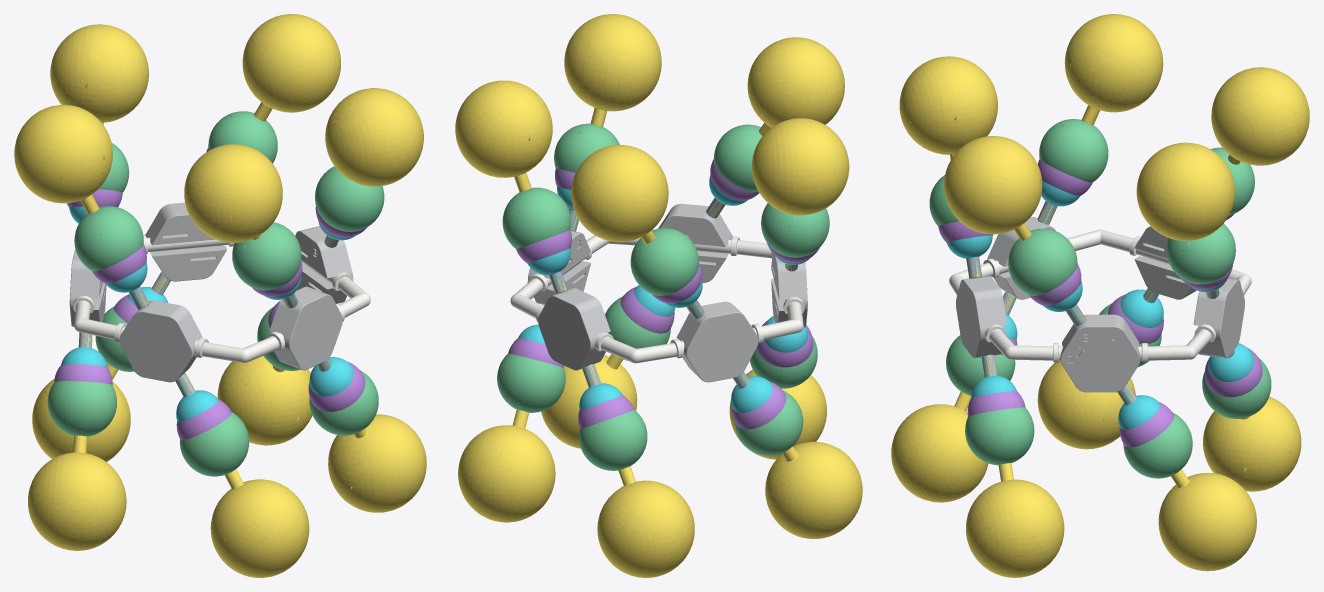
3 views of the same model, side by side, from view 1: azimuth 30°, elevation 25°; view 2: azimuth 150°, elevation 25°; view 3: azimuth 270°, elevation 25° (orthographic).
Visible parts, largest first — view 1: Arm_Bead27_U04, Arm_Bead27_L03, Arm_Bead27_L04, Arm_Bead27_U02, Arm_Bead27_U01, Arm_Bead27_U05, Arm_Bead27_U03, Arm_Bead27_L05, Arm_Bead27_L01, Hexagonal_Body_04, Ring_Frame, Hexagonal_Body_05 (+25 smaller); view 2: Arm_Bead27_L02, Arm_Bead27_U02, Arm_Bead27_U01, Arm_Bead27_L01, Arm_Bead27_U03, Arm_Bead27_L03, Arm_Bead27_U04, Arm_Bead27_U05, Ring_Frame, Hexagonal_Body_03, Hexagonal_Body_02, Arm_Bead19_U03 (+27 smaller); view 3: Arm_Bead27_L05, Arm_Bead27_U04, Arm_Bead27_U01, Arm_Bead27_L01, Arm_Bead27_U03, Arm_Bead27_U02, Arm_Bead27_U05, Arm_Bead27_L04, Arm_Bead27_L02, Arm_Bead27_L03, Hexagonal_Body_01, Ring_Frame (+27 smaller).
Boxes of the visible parts, x1,y1,x2,y2 form: Arm_Bead27_U04: [14, 105, 148, 309]; Arm_Bead27_L03: [28, 332, 126, 550]; Arm_Bead27_L04: [176, 373, 309, 577]; Arm_Bead27_U02: [242, 14, 340, 121]; Arm_Bead27_U01: [325, 88, 423, 247]; Arm_Bead27_U05: [184, 144, 297, 308]; Arm_Bead27_U03: [50, 24, 148, 124]; Arm_Bead27_L05: [318, 359, 426, 512]; Arm_Bead27_L01: [217, 356, 312, 445]; Hexagonal_Body_04: [119, 300, 202, 382]; Ring_Frame: [73, 234, 370, 362]; Hexagonal_Body_05: [269, 286, 342, 370]; Arm_Bead27_L02: [583, 364, 694, 577]; Arm_Bead27_U02: [455, 80, 567, 293]; Arm_Bead27_U01: [564, 14, 661, 231]; Arm_Bead27_L01: [458, 409, 555, 522]; Arm_Bead27_U03: [571, 145, 704, 318]; Arm_Bead27_L03: [734, 372, 862, 538]; Arm_Bead27_U04: [751, 118, 849, 271]; Arm_Bead27_U05: [706, 37, 844, 218]; Ring_Frame: [510, 229, 804, 363]; Hexagonal_Body_03: [676, 301, 758, 382]; Hexagonal_Body_02: [538, 288, 610, 370]; Arm_Bead19_U03: [630, 228, 704, 318]; Arm_Bead27_L05: [966, 355, 1064, 577]; Arm_Bead27_U04: [1038, 14, 1163, 224]; Arm_Bead27_U01: [944, 136, 1085, 326]; Arm_Bead27_L01: [1117, 384, 1256, 571]; Arm_Bead27_U03: [1211, 67, 1309, 165]; Arm_Bead27_U02: [1136, 142, 1234, 298]; Arm_Bead27_U05: [899, 56, 997, 278]; Arm_Bead27_L04: [891, 292, 1015, 502]; Arm_Bead27_L02: [1203, 352, 1301, 491]; Arm_Bead27_L03: [1037, 288, 1158, 449]; Hexagonal_Body_01: [1060, 314, 1140, 392]; Ring_Frame: [949, 229, 1251, 362].
Bounding box in the file's own units: 0.1104 × 0.1288 × 0.1147.
